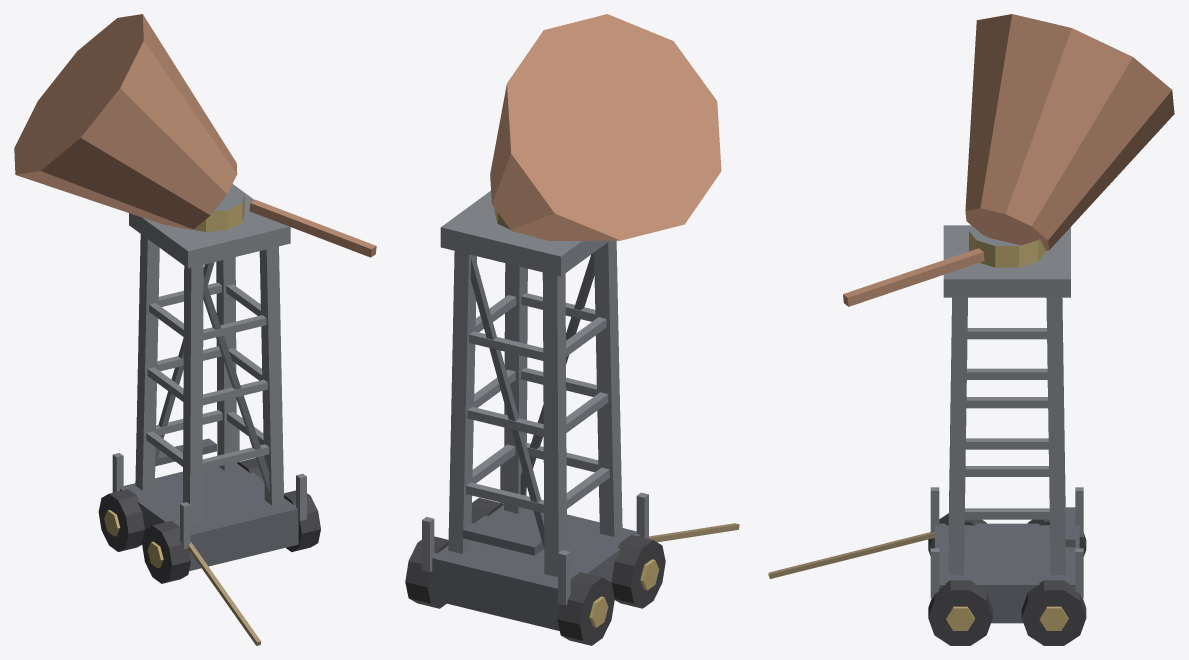
The model's file is gnome-tower.glb.
The picture shows the model from 3 angles, left to right: view 1: azimuth 30°, elevation 25°; view 2: azimuth 150°, elevation 25°; view 3: azimuth 270°, elevation 25°; orthographic projection. The views are drawn at different scales.
Parts seen in each view (by area): view 1: Body; view 2: Body; view 3: Body.
Boxes of the visible parts, left/top/right/bottom form: Body: left=14, top=14, right=376, bottom=645; Body: left=405, top=14, right=739, bottom=645; Body: left=768, top=14, right=1174, bottom=645.
Bounding box in the file's own units: 3.75 × 7.31 × 4.78.
